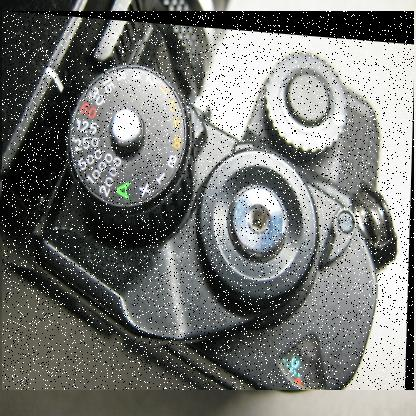Camera: (3, 12, 416, 392)
